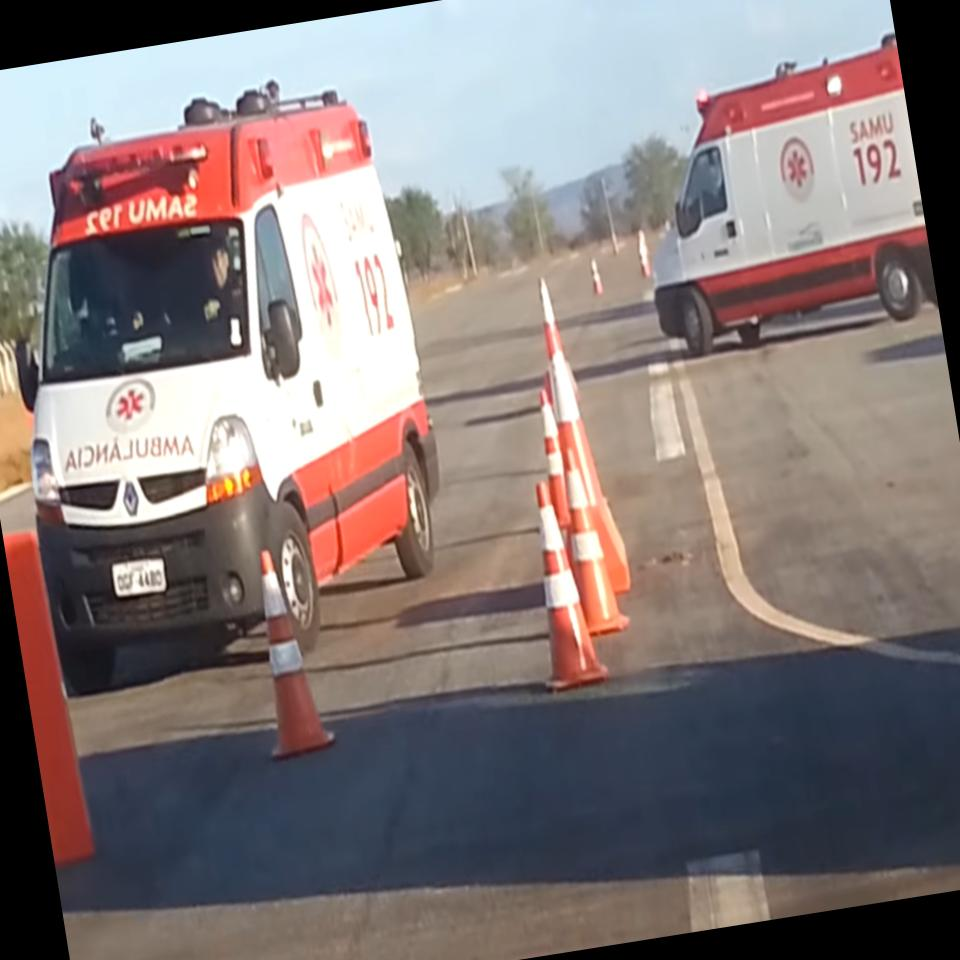bombeiro: (0, 58, 469, 682), (616, 28, 941, 366)
